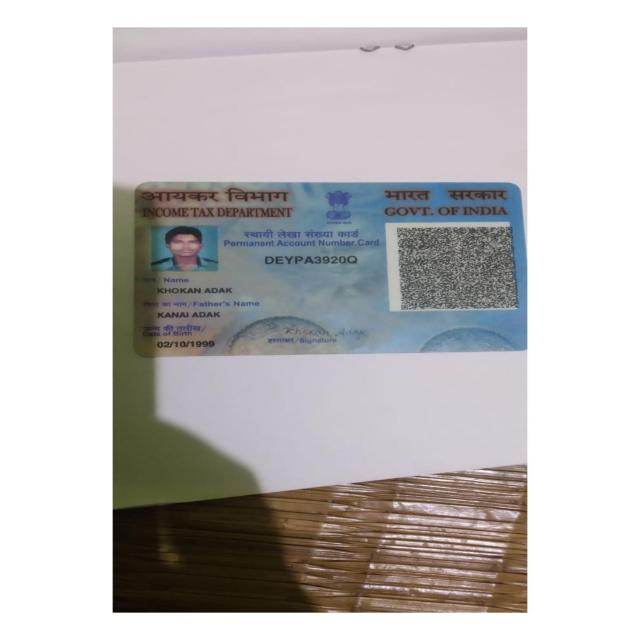pan_card: (132, 181, 530, 361)
